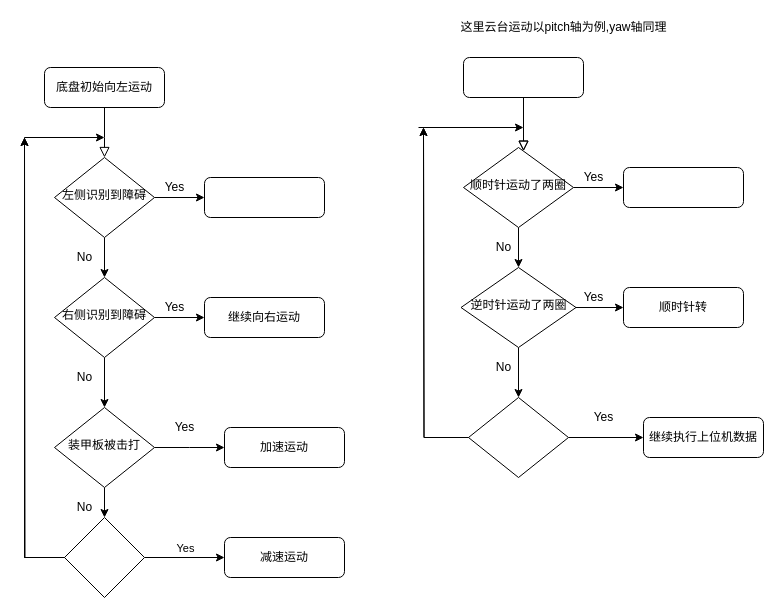
This 781x615 diagram has some shape labels left out. Here are the shapes that lost their labels. From the top down, the centre of each, then its label:
[523,77]: 云台初始运动顺时针
[264,197]: 向右运动
[683,187]: 逆时针转
[518,437]: 识别到目标
[104,557]: 底盘缓冲低于50j
